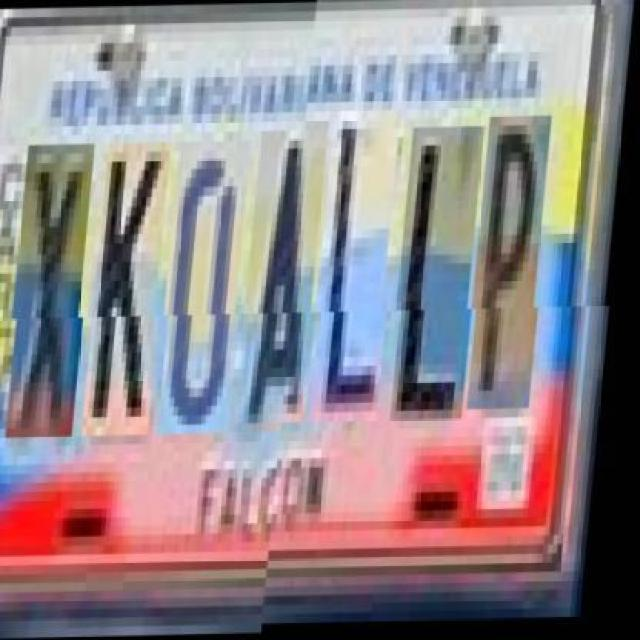0: (166, 142, 260, 436)
a: (247, 131, 336, 434)
k: (90, 143, 179, 437)
l: (318, 121, 407, 433), (398, 138, 492, 432)
p: (474, 127, 558, 421)
x: (14, 144, 103, 438)
